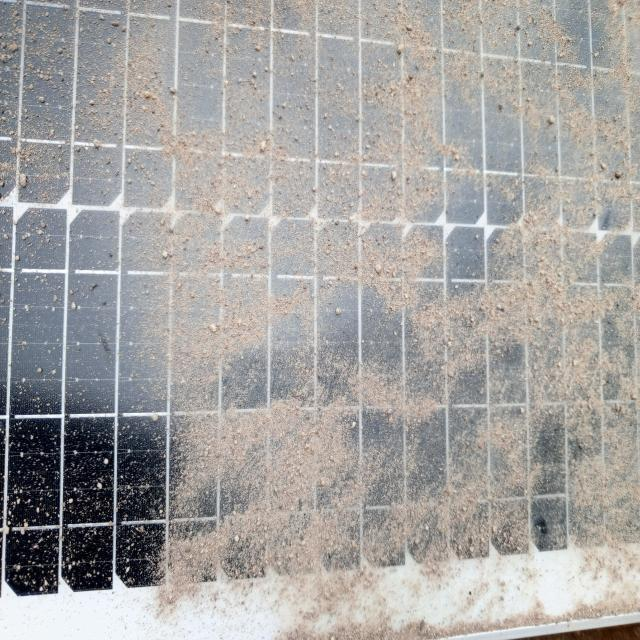Anomaly Solar Panel: (4, 7, 639, 591)
Surface Contaminant: (4, 7, 639, 591)
